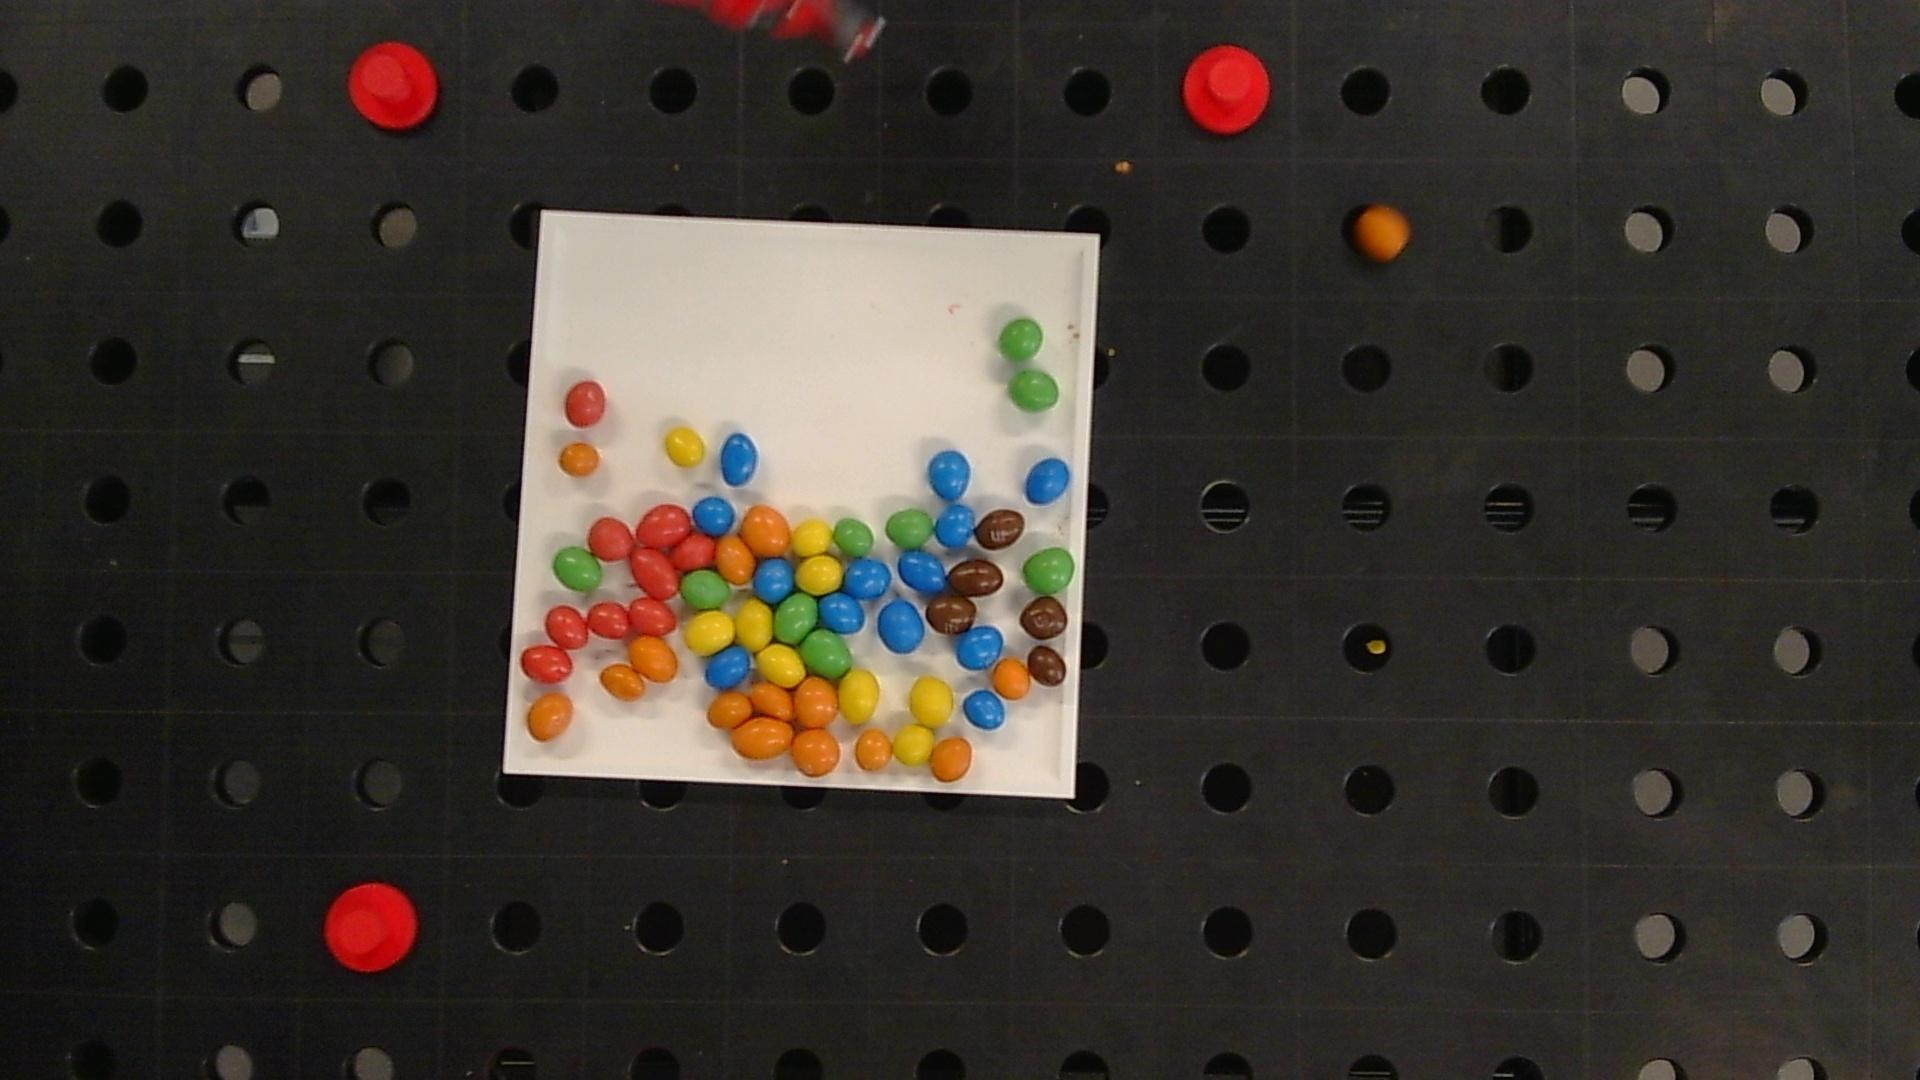blue: (878, 600, 924, 653), (956, 626, 1004, 671), (928, 451, 971, 501), (898, 551, 947, 592), (1026, 458, 1069, 502), (843, 558, 890, 599), (721, 433, 757, 487), (705, 647, 750, 688), (935, 504, 976, 547), (754, 556, 794, 601), (820, 592, 865, 632), (963, 690, 1006, 729), (692, 496, 736, 535)
brown: (947, 559, 1005, 596), (975, 509, 1025, 550), (1019, 597, 1067, 640), (927, 596, 976, 634), (1027, 645, 1067, 686)
green: (802, 630, 852, 676), (1023, 549, 1075, 593), (553, 546, 601, 591), (1007, 371, 1060, 411), (774, 593, 818, 642), (998, 319, 1044, 361), (886, 509, 934, 550), (680, 570, 729, 609), (833, 517, 874, 556)
orange: (732, 717, 794, 758), (741, 505, 790, 556), (791, 731, 841, 775), (527, 694, 574, 740), (794, 678, 837, 727), (629, 637, 678, 680), (715, 535, 754, 584), (931, 737, 972, 782), (600, 665, 646, 700), (750, 682, 794, 719), (855, 729, 893, 770), (708, 692, 752, 728), (993, 658, 1030, 699), (559, 442, 600, 476)
red: (632, 547, 678, 599), (637, 504, 691, 547), (521, 645, 574, 683), (588, 517, 634, 560), (564, 380, 607, 427), (545, 605, 588, 649), (629, 597, 676, 634), (587, 603, 630, 638), (674, 531, 715, 567)
yellow: (839, 670, 880, 724), (910, 676, 953, 727), (684, 611, 735, 654), (735, 600, 773, 647), (758, 645, 803, 684), (796, 555, 843, 593), (893, 724, 935, 765), (665, 427, 704, 465), (791, 518, 832, 555)
